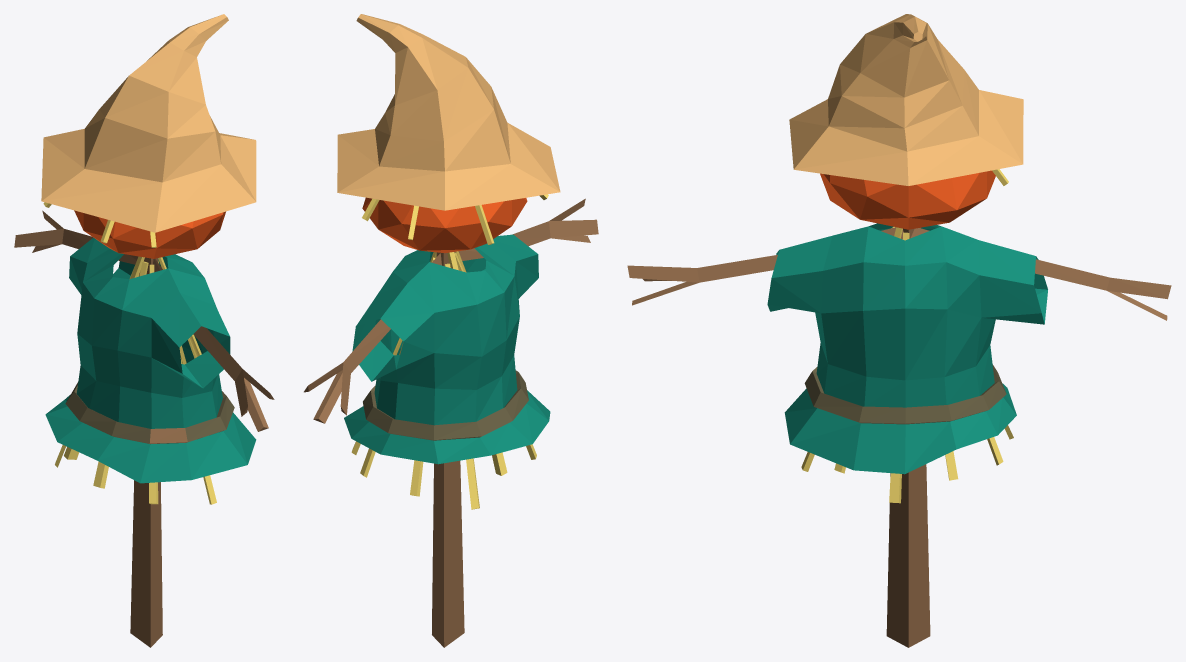
The model's file is scarecrow.obj.
3 renders of one model, left to right at view 1: azimuth 30°, elevation 25°; view 2: azimuth 150°, elevation 25°; view 3: azimuth 270°, elevation 25°, orthographic. The views are drawn at different scales.
Bounding box in the file's own units: 3.56 × 9.4 × 7.12.
